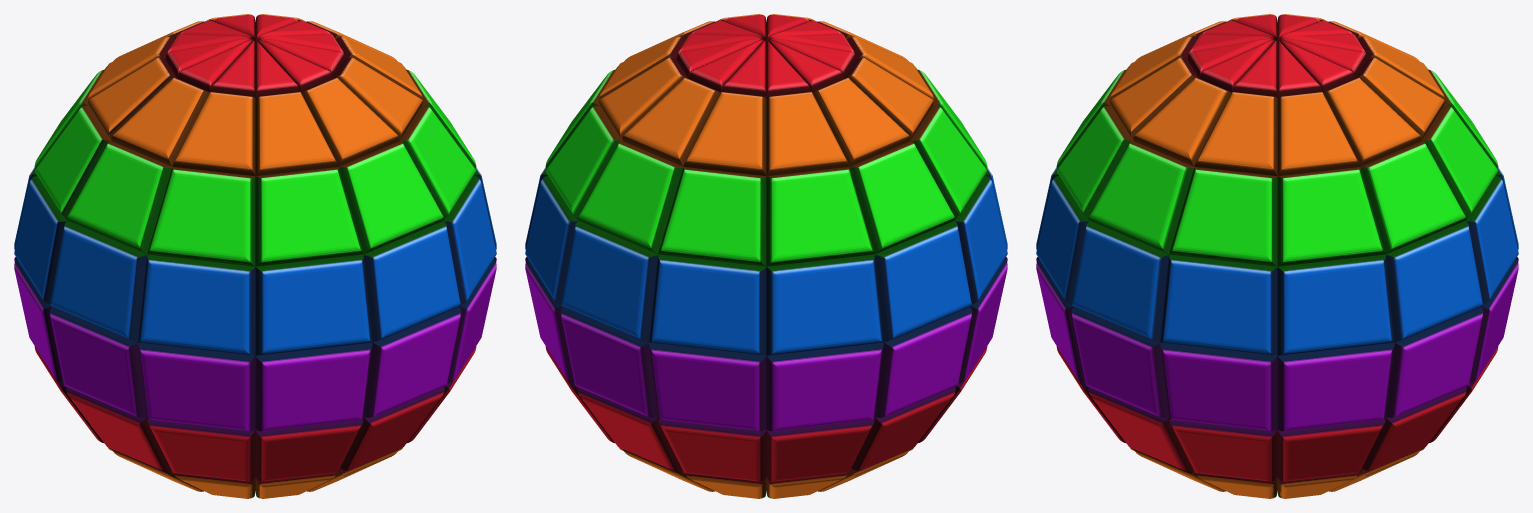
Rendered from discoball.fbx.
3 views of the same model, side by side, from view 1: azimuth 30°, elevation 25°; view 2: azimuth 150°, elevation 25°; view 3: azimuth 270°, elevation 25° (orthographic).
Parts seen in each view (by area): view 1: Sphere; view 2: Sphere; view 3: Sphere.
Boxes of the visible parts, x1=… form: Sphere: x1=14, y1=14, x2=496, y2=498; Sphere: x1=525, y1=14, x2=1007, y2=498; Sphere: x1=1036, y1=14, x2=1518, y2=498.
Bounding box in the file's own units: 10282 × 10271 × 10282.
